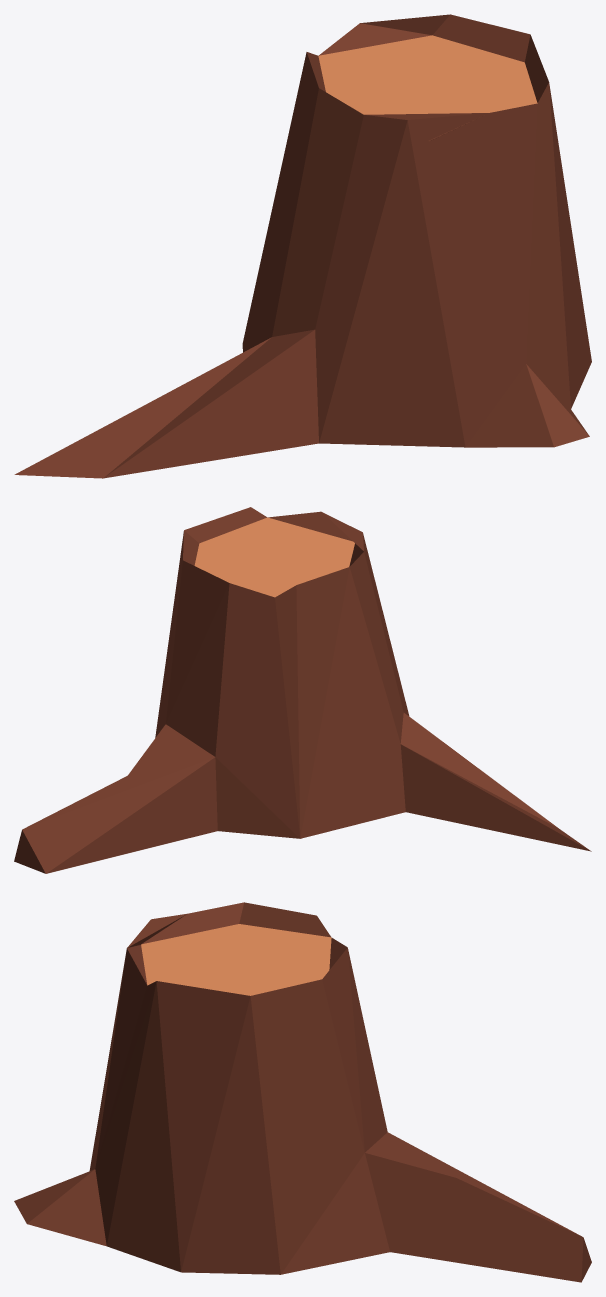
File: pine_trunk_type_2_LOD2.fbx
3 views of the same model, one above another, from view 1: azimuth 30°, elevation 25°; view 2: azimuth 150°, elevation 25°; view 3: azimuth 270°, elevation 25° (orthographic). The views are drawn at different scales.
Parts seen in each view (by area): view 1: pt_type_2; view 2: pt_type_2; view 3: pt_type_2.
Part boxes in pixels (bbox=[...]): pt_type_2: bbox=[14, 14, 591, 478]; pt_type_2: bbox=[14, 507, 591, 873]; pt_type_2: bbox=[14, 902, 591, 1282].
Bounding box in the file's own units: 363 × 191 × 367.
